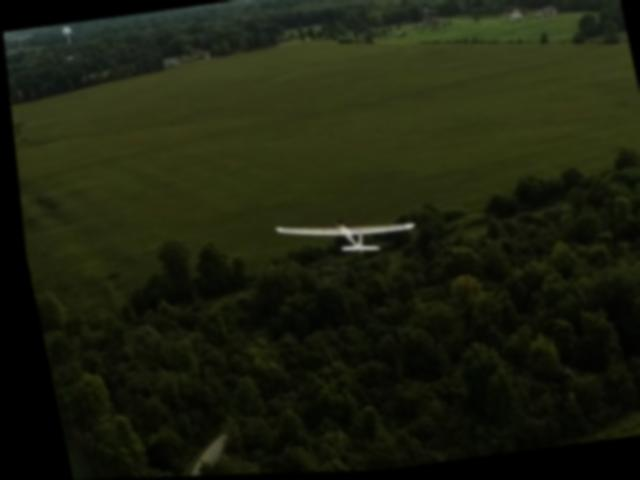uav: (261, 200, 423, 272)
